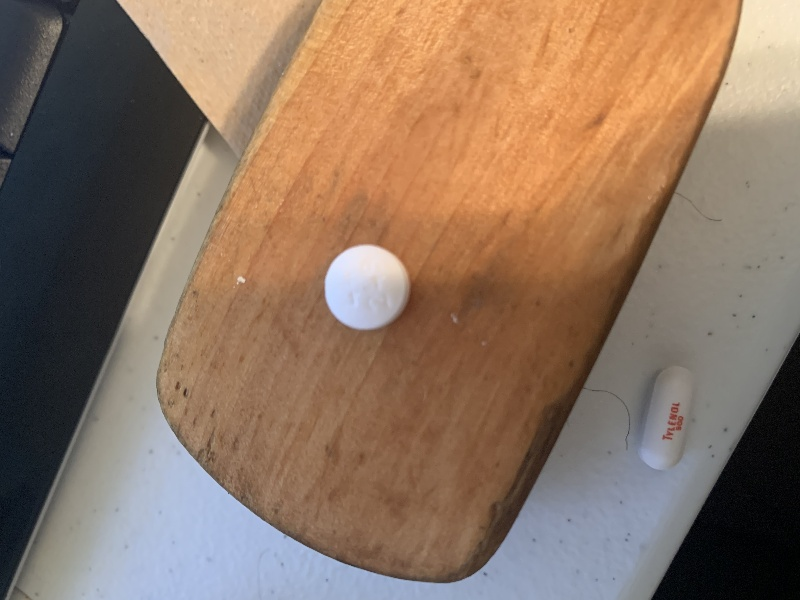Aspirin: (318, 239, 414, 338)
Tylenol: (636, 362, 704, 475)
